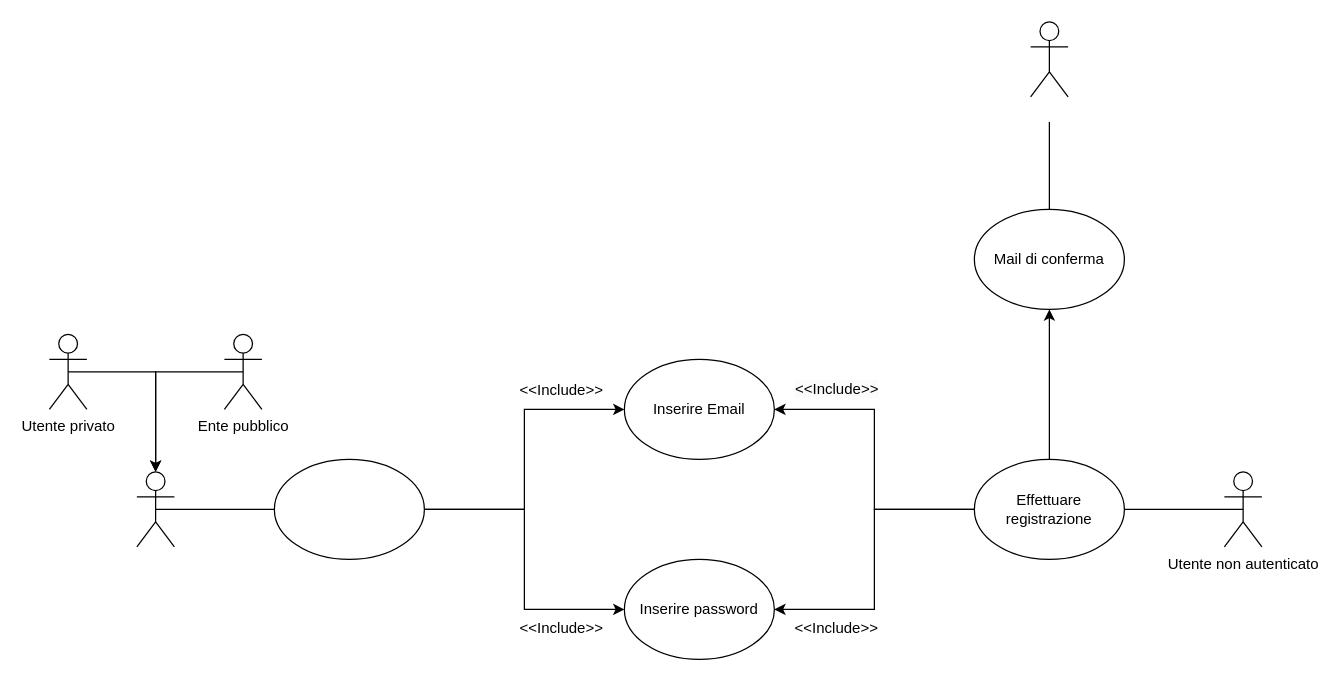
The diagram is 1340 pixels wide and 681 high, and some of its shapes have lost their labels. Here are the shapes that lost their labels. From the top down, the box of each, then its label:
(1029, 21, 1068, 97): Mail serivce
(136, 471, 174, 547): Utente registrato
(273, 458, 424, 559): Effettuare login
